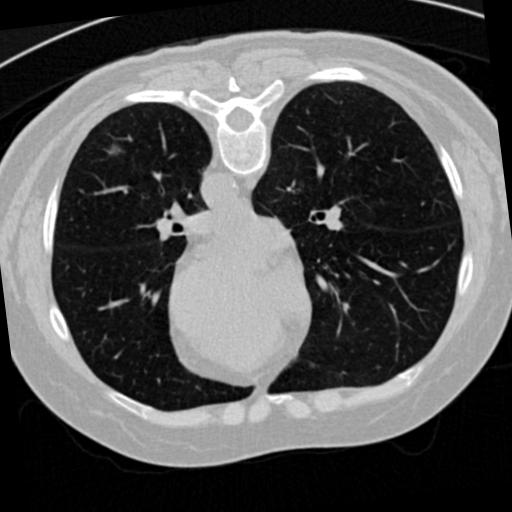nodule: (107, 143, 125, 161)
